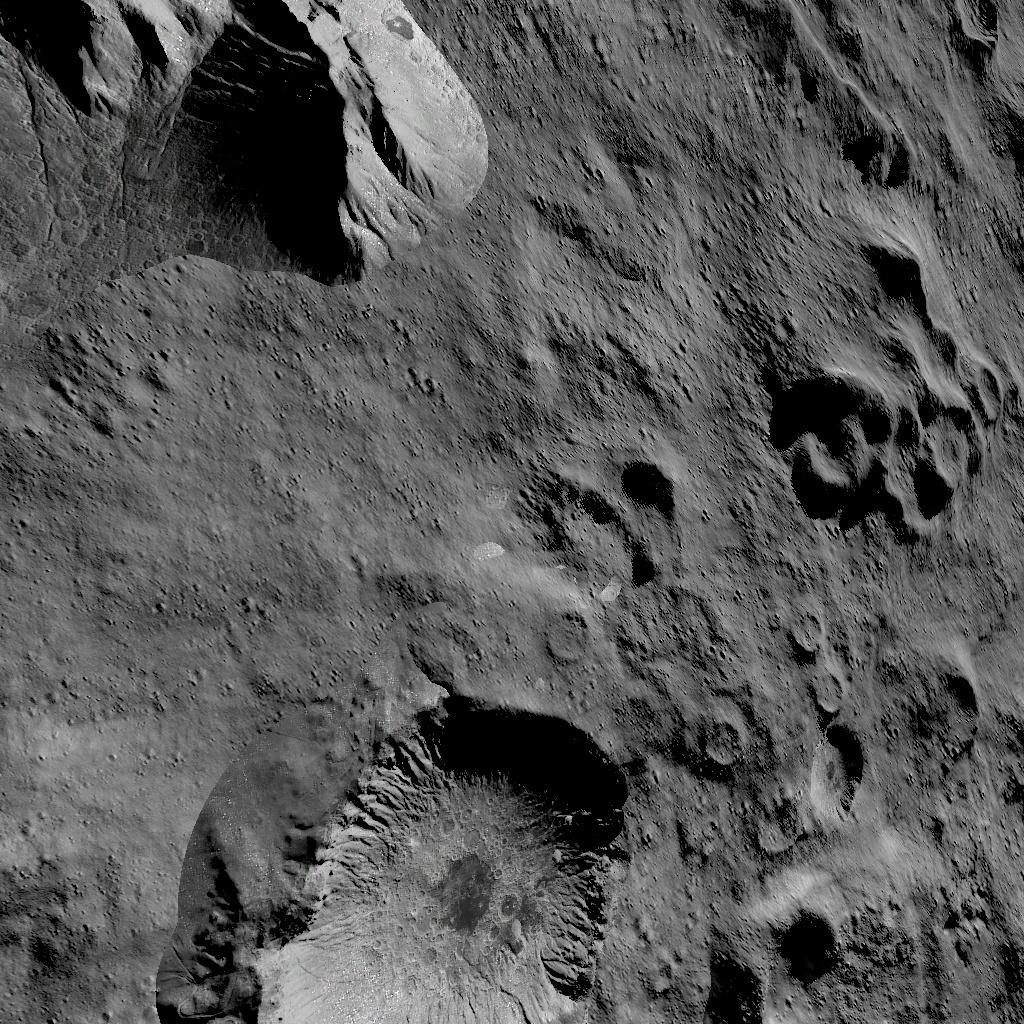Boulders: (1, 0, 490, 332)
Crater: (141, 684, 634, 1022), (766, 350, 994, 528), (693, 862, 852, 1024), (777, 612, 866, 822), (523, 456, 668, 582), (908, 658, 990, 754), (848, 236, 922, 315), (926, 0, 1004, 65), (688, 708, 749, 774), (538, 606, 598, 668)
Plan surface: (0, 340, 496, 673), (505, 2, 708, 440)
